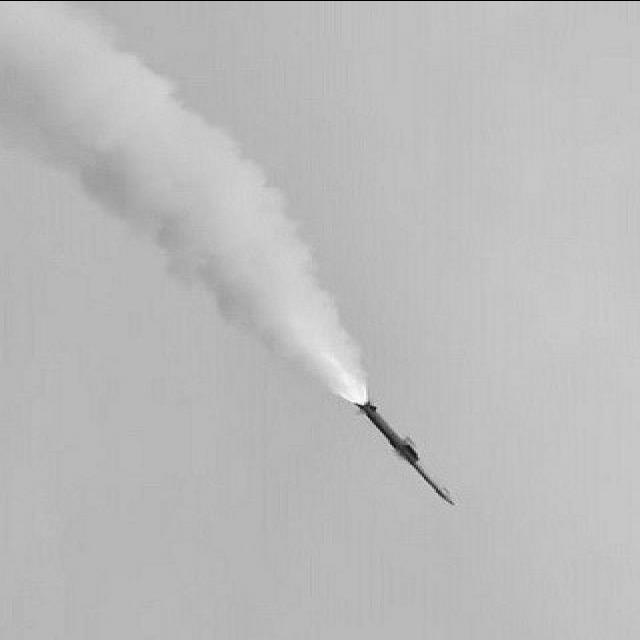missile: (347, 391, 467, 506)
